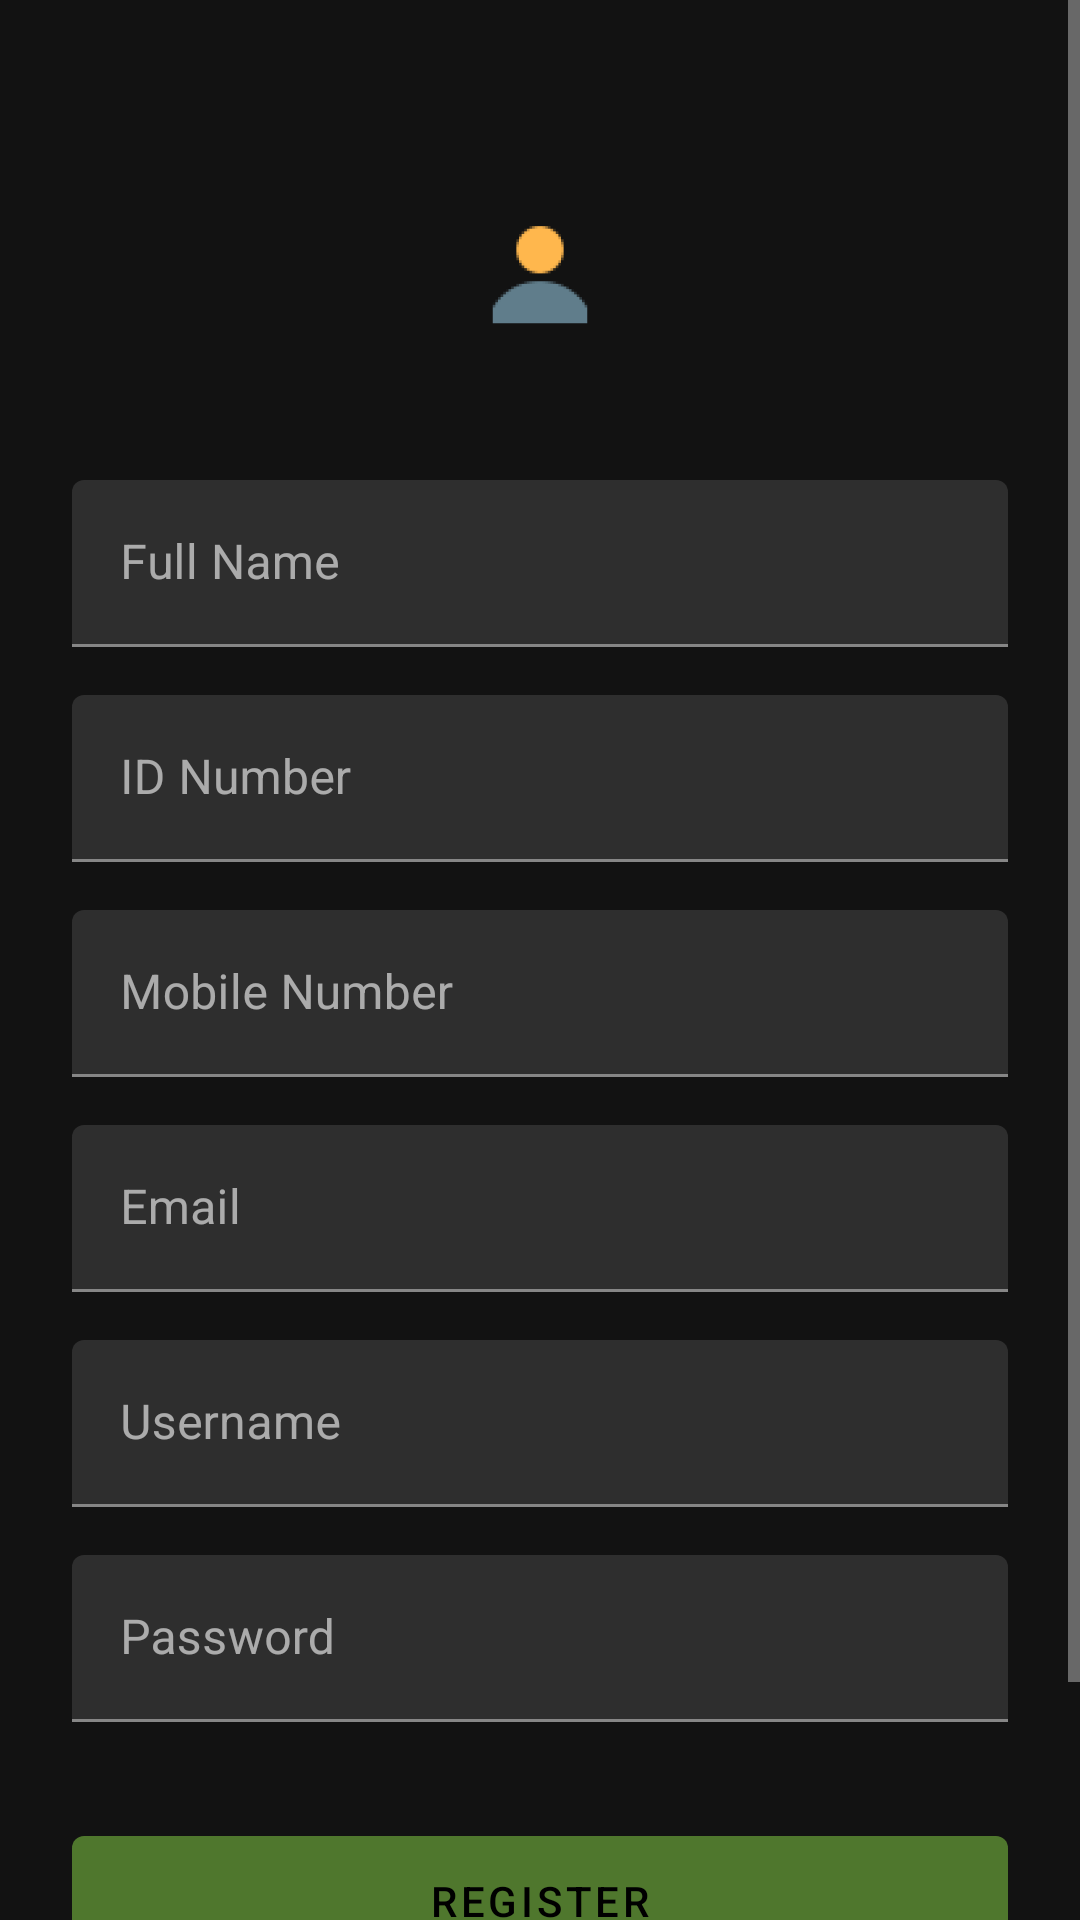

Icon bounding boxes for this 1080 × 1920 phone screenshot, format (x1, y1, x2, y2):
customeravatar: (492, 226, 588, 324)
